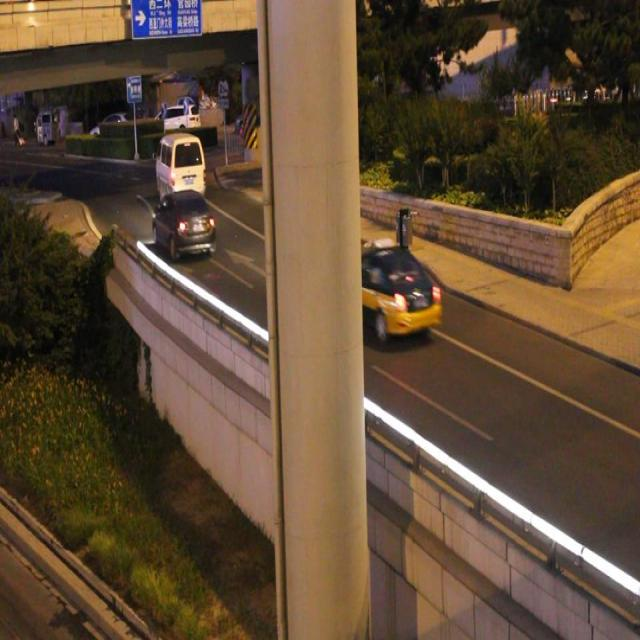car: (327, 239, 441, 339), (150, 188, 216, 258)
truck: (154, 132, 208, 203)
